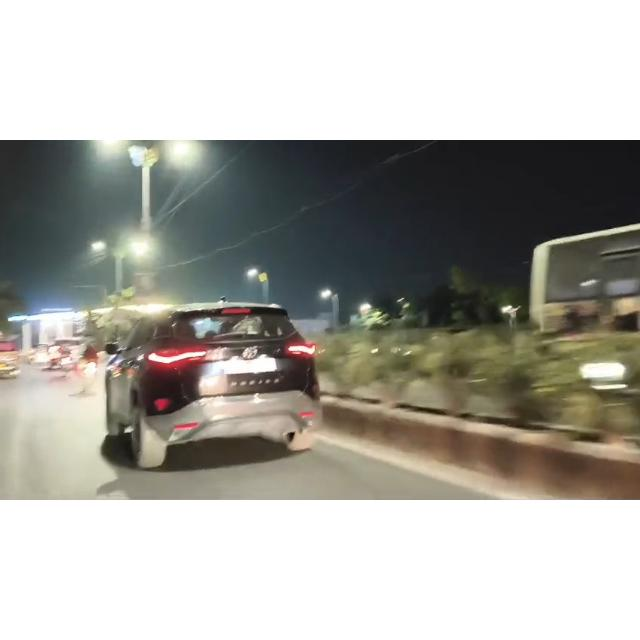car: (98, 278, 342, 478)
